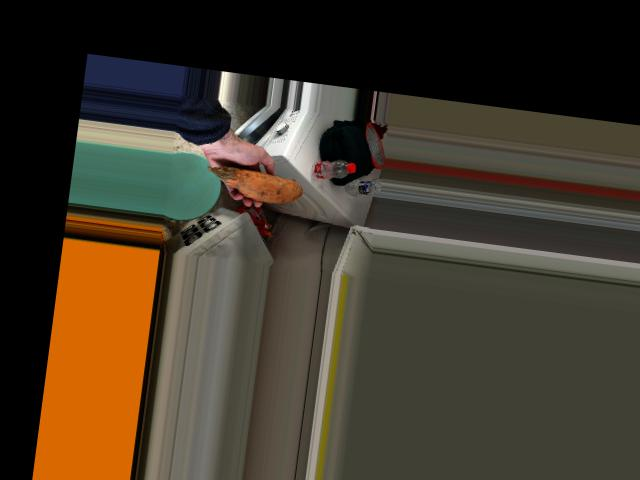sweet_potato: (215, 162, 295, 205)
